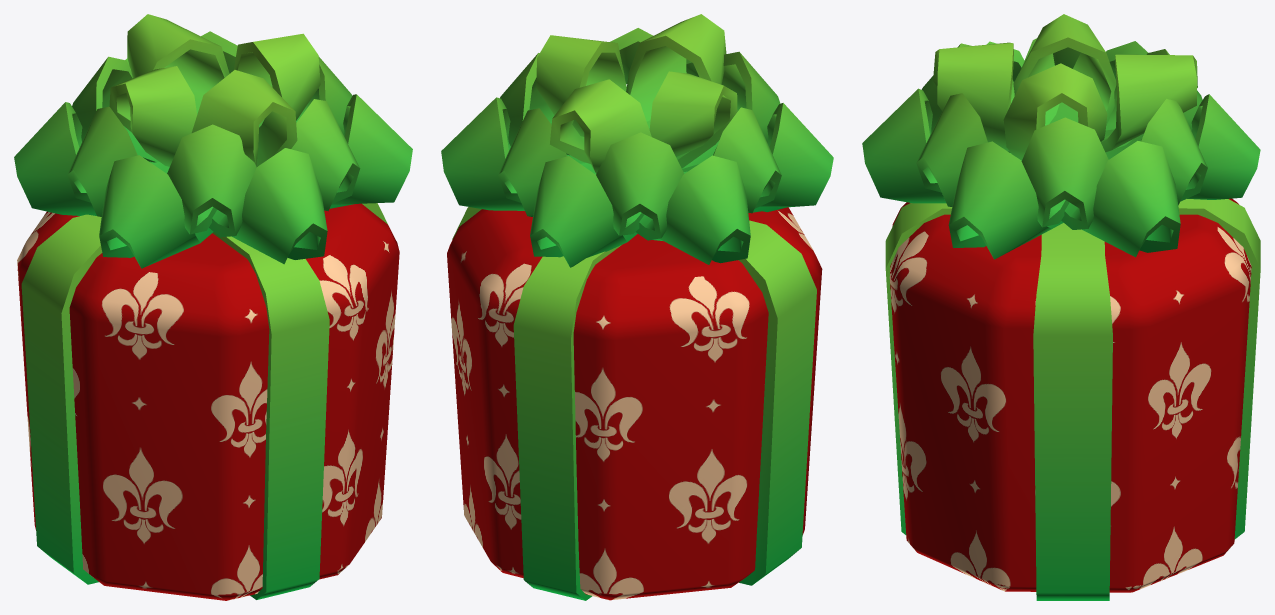
File: giftbox_060.fbx
The picture shows the model from 3 angles, left to right: view 1: azimuth 30°, elevation 25°; view 2: azimuth 150°, elevation 25°; view 3: azimuth 270°, elevation 25°; orthographic projection.
Parts seen in each view (by area): view 1: giftbox_060; view 2: giftbox_060; view 3: giftbox_060.
Part boxes in pixels (left/top/right/bottom): giftbox_060: left=14, top=14, right=412, bottom=600; giftbox_060: left=441, top=14, right=833, bottom=600; giftbox_060: left=862, top=14, right=1260, bottom=600.
Bounding box in the file's own units: 254 × 266 × 362.
